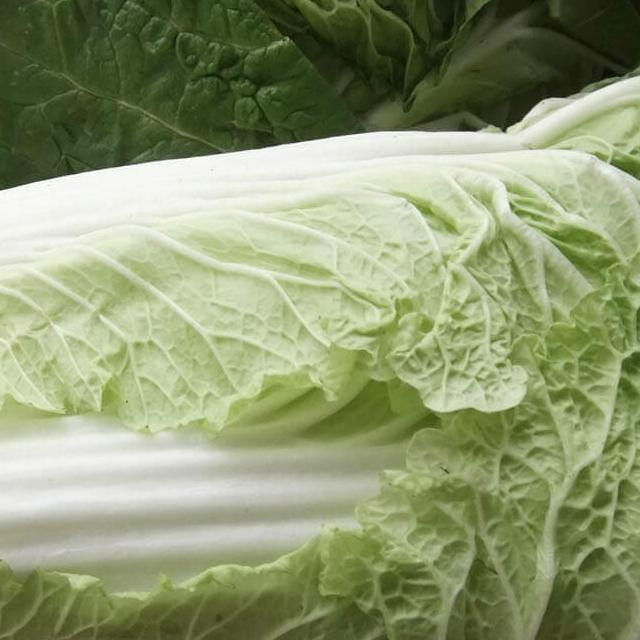cabbage: (0, 65, 640, 640)
